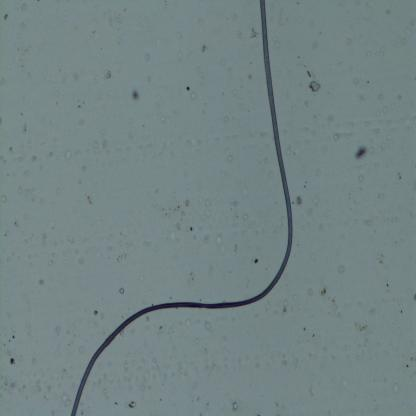Background material: (161, 196, 191, 233), (1, 370, 24, 395), (10, 40, 32, 66), (304, 69, 321, 99), (173, 267, 197, 288), (191, 226, 212, 246), (94, 135, 112, 157), (105, 7, 122, 29), (326, 296, 342, 319), (231, 87, 246, 111), (16, 17, 30, 41), (169, 316, 193, 330), (352, 141, 367, 163), (58, 145, 75, 164), (180, 132, 200, 148), (19, 184, 36, 200), (354, 321, 371, 336), (61, 387, 72, 410), (114, 251, 129, 266), (386, 380, 402, 394), (347, 186, 359, 204), (155, 103, 165, 124), (250, 127, 269, 138), (129, 88, 142, 104), (228, 398, 240, 414), (317, 284, 329, 300), (203, 194, 211, 218), (32, 373, 41, 394), (226, 196, 241, 208), (59, 364, 70, 380), (44, 379, 53, 398), (199, 319, 212, 332), (83, 192, 96, 205), (284, 144, 296, 158), (273, 220, 285, 234), (375, 104, 386, 119), (306, 384, 316, 400), (6, 354, 18, 367), (53, 90, 62, 107), (152, 356, 162, 371), (281, 298, 289, 316), (376, 250, 385, 266), (243, 214, 251, 232), (340, 128, 353, 139), (380, 275, 390, 289), (99, 370, 109, 384), (52, 322, 62, 336), (102, 69, 113, 81), (204, 262, 215, 274), (74, 98, 86, 109), (272, 35, 281, 49), (175, 46, 184, 60), (120, 360, 131, 371), (214, 235, 225, 246), (142, 50, 152, 62), (243, 275, 251, 289), (375, 190, 389, 198), (226, 150, 234, 164), (352, 75, 362, 86), (34, 276, 44, 287), (364, 216, 374, 227), (343, 33, 352, 45), (356, 94, 368, 103), (70, 70, 79, 82), (368, 140, 376, 153), (18, 2, 28, 12), (151, 184, 161, 194), (48, 146, 58, 156), (273, 397, 282, 408), (253, 358, 262, 369), (267, 166, 275, 178), (250, 27, 258, 39), (102, 389, 110, 401), (366, 306, 376, 315), (326, 113, 336, 122), (192, 394, 202, 403), (296, 195, 304, 206), (189, 90, 197, 101), (69, 235, 76, 247), (334, 130, 340, 144), (281, 352, 287, 366), (30, 354, 38, 364), (90, 308, 100, 316), (338, 262, 345, 273), (2, 10, 8, 22), (308, 287, 314, 299), (12, 219, 20, 228), (201, 42, 208, 52), (117, 286, 124, 296), (311, 40, 318, 50), (42, 232, 46, 249), (232, 242, 238, 253), (78, 344, 84, 355), (380, 44, 386, 55), (32, 153, 38, 164), (364, 336, 370, 347), (396, 93, 404, 101), (192, 337, 200, 345), (262, 157, 270, 165), (302, 99, 310, 107), (172, 107, 180, 115), (277, 18, 284, 27), (237, 30, 244, 39), (0, 195, 7, 204), (127, 402, 136, 409), (293, 358, 299, 368), (0, 153, 6, 163), (396, 170, 402, 180), (126, 129, 132, 139), (248, 70, 253, 82), (358, 175, 365, 183), (253, 257, 260, 265), (4, 228, 11, 236), (254, 407, 260, 416), (65, 326, 71, 335), (76, 178, 82, 186), (7, 146, 13, 154), (146, 74, 152, 82), (378, 93, 384, 101), (49, 250, 55, 258), (223, 117, 230, 123), (364, 50, 370, 57), (386, 134, 392, 141), (50, 409, 56, 416), (310, 330, 315, 338), (22, 126, 27, 134), (378, 146, 383, 154), (412, 292, 416, 302), (221, 58, 226, 66), (301, 324, 306, 332), (26, 71, 32, 77), (184, 184, 190, 190), (384, 10, 391, 15), (79, 257, 84, 264), (206, 400, 210, 408), (160, 325, 164, 333), (49, 259, 53, 267), (2, 342, 7, 348), (0, 116, 3, 125), (186, 85, 190, 91), (410, 356, 414, 362), (404, 364, 410, 368), (294, 0, 300, 4), (114, 400, 118, 406), (399, 310, 403, 314), (200, 72, 204, 76), (305, 180, 308, 184), (12, 335, 15, 339), (303, 185, 306, 188), (160, 399, 162, 401), (9, 340, 10, 342)
Microfibre: (70, 0, 294, 416)
